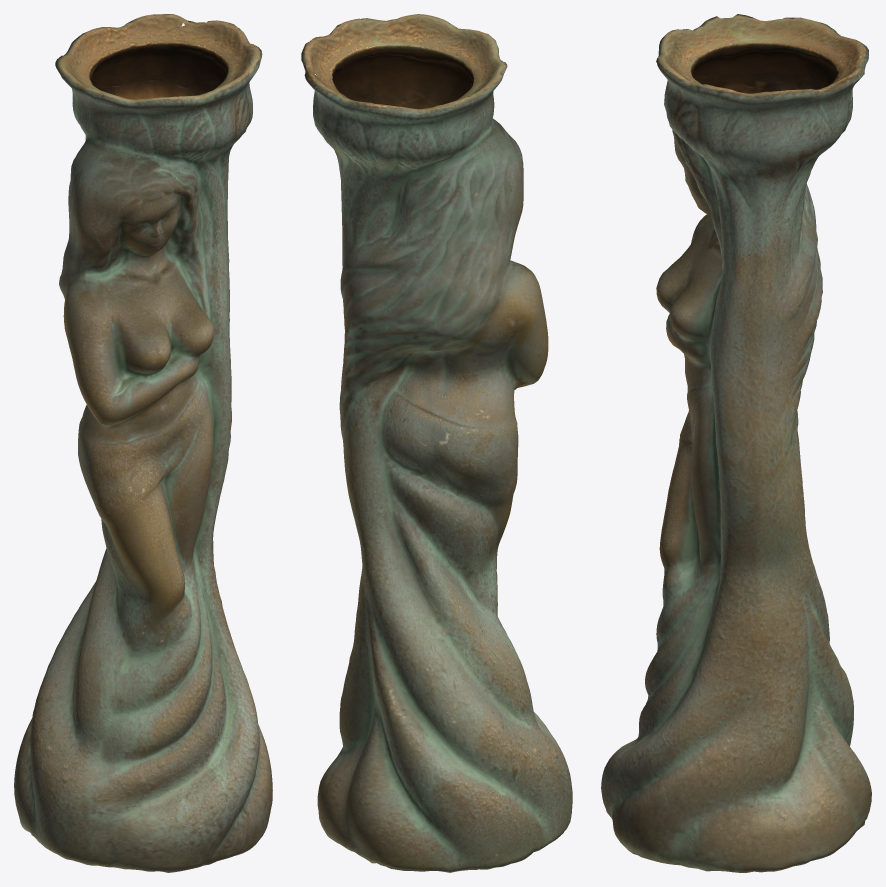
File: Woman.glb
3 renders of one model, left to right at view 1: azimuth 30°, elevation 25°; view 2: azimuth 150°, elevation 25°; view 3: azimuth 270°, elevation 25°, orthographic. The views are drawn at different scales.
Parts seen in each view (by area): view 1: default_stat_0; view 2: default_stat_0; view 3: default_stat_0.
Boxes of the visible parts, box(x1,y1,x2,y2) form: default_stat_0: box(14, 14, 272, 872); default_stat_0: box(301, 14, 572, 872); default_stat_0: box(601, 14, 871, 872).
Bounding box in the file's own units: 4 × 13.1 × 4.03.
Materials: 1 (1 with a texture image).
